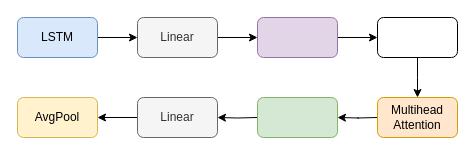
Image size: 475x155. Some labels were removed from this diagram. The centre of each missing label's shape, as x and y in pixels:
Dropout: pixel 417 37
LayerNorm: pixel 297 117
ReLu: pixel 297 37
